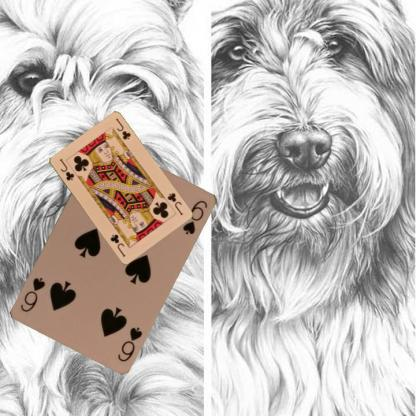6s: (115, 324, 144, 363)
Jc: (165, 190, 184, 216), (57, 156, 75, 182)
